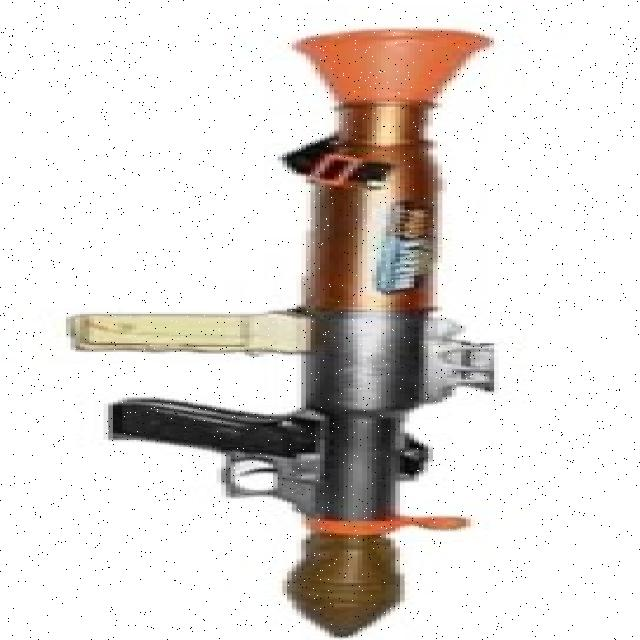bazooka: (41, 20, 581, 640)
